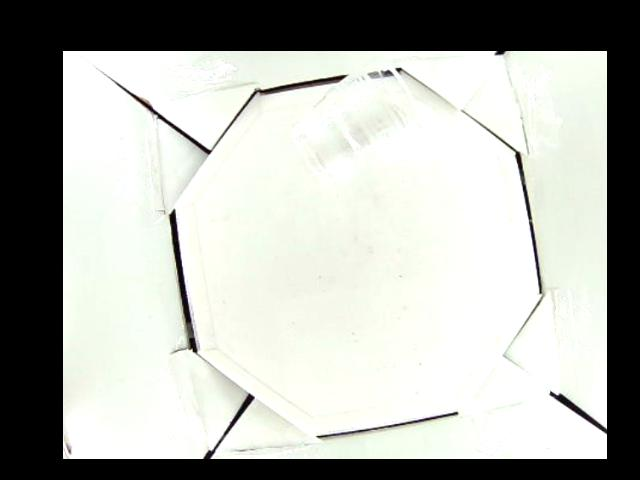Cup: (293, 60, 425, 184)
